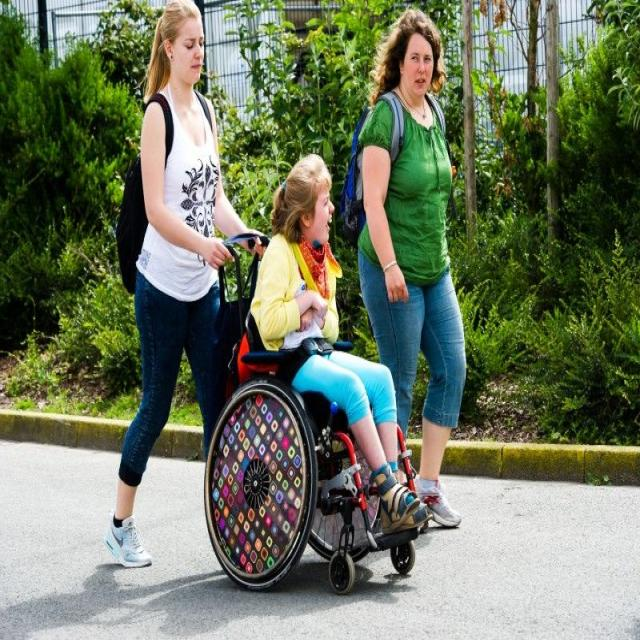wheelchairs: (206, 236, 431, 599)
